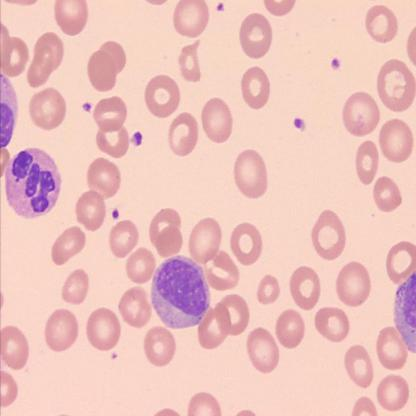Metamyelocyte: (148, 251, 213, 331)
